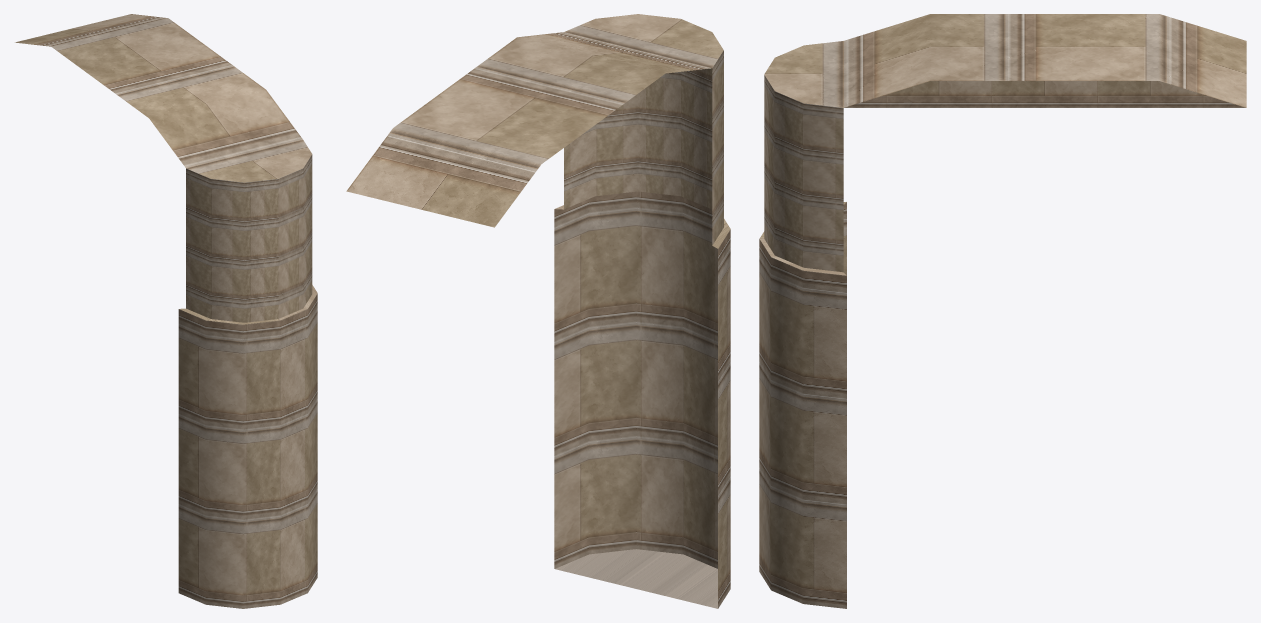
The model's file is Cor1_bldg_walk_lib_2.fbx.
The picture shows the model from 3 angles, left to right: view 1: azimuth 30°, elevation 25°; view 2: azimuth 150°, elevation 25°; view 3: azimuth 270°, elevation 25°; orthographic projection. The views are drawn at different scales.
Parts seen in each view (by area): view 1: polymsh1391; view 2: polymsh1391; view 3: polymsh1391.
Part boxes in pixels (left/top/right/bottom): polymsh1391: left=15, top=14, right=317, bottom=608; polymsh1391: left=346, top=14, right=730, bottom=608; polymsh1391: left=759, top=14, right=1246, bottom=608.
Size of what is drawn, in the model's own units: 2701 by 8939 by 7523.
